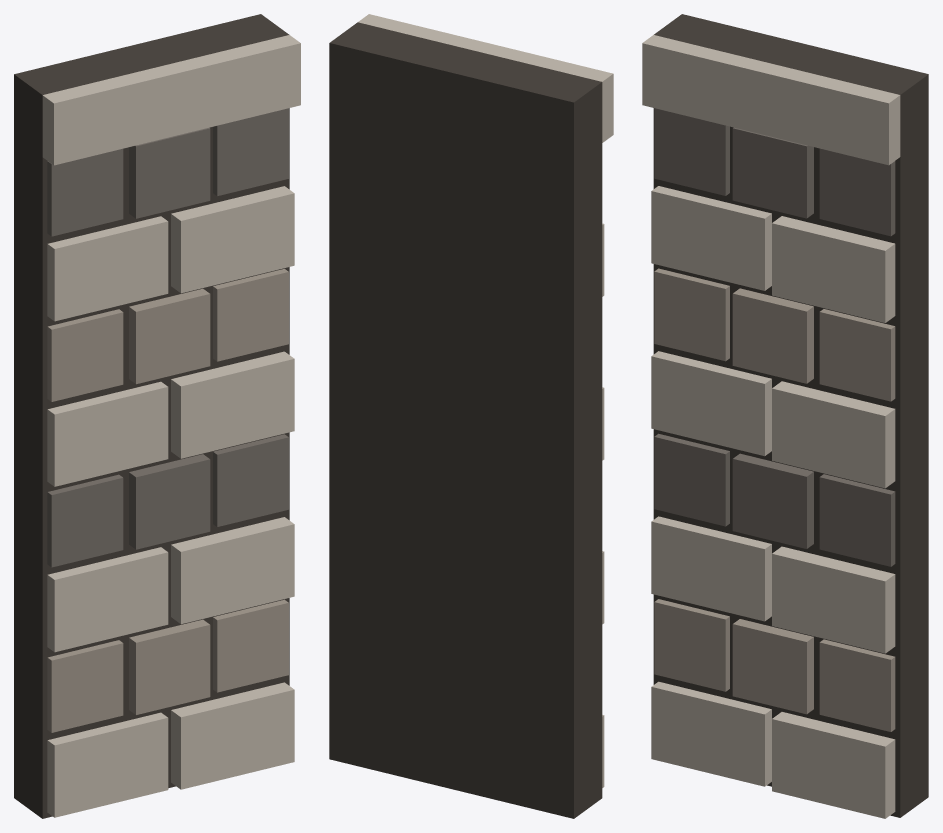
Rendered from parede_de_cantaria.glb.
3 views of the same model, side by side, from view 1: azimuth 30°, elevation 25°; view 2: azimuth 150°, elevation 25°; view 3: azimuth 330°, elevation 25° (orthographic).
Visible parts, largest first — view 1: Maciço, Cornija, Bloco_0_1, Bloco_6_1, Bloco_4_1, Bloco_2_1, Bloco_2_0, Bloco_6_0, Bloco_0_0, Bloco_4_0, Bloco_3_1, Bloco_1_1 (+10 smaller); view 2: Maciço, Cornija; view 3: Maciço, Cornija, Bloco_2_1, Bloco_4_1, Bloco_0_1, Bloco_6_1, Bloco_0_0, Bloco_2_0, Bloco_4_0, Bloco_6_0, Bloco_3_1, Bloco_5_1 (+10 smaller).
Boxes of the visible parts, left/top/right/bottom form: Maciço: left=14, top=14, right=289, bottom=818; Cornija: left=42, top=35, right=300, bottom=165; Bloco_0_1: left=171, top=682, right=294, bottom=789; Bloco_6_1: left=171, top=186, right=294, bottom=293; Bloco_4_1: left=171, top=351, right=294, bottom=458; Bloco_2_1: left=171, top=517, right=294, bottom=624; Bloco_2_0: left=47, top=547, right=168, bottom=652; Bloco_6_0: left=47, top=216, right=168, bottom=321; Bloco_0_0: left=47, top=712, right=168, bottom=817; Bloco_4_0: left=47, top=381, right=168, bottom=486; Bloco_3_1: left=129, top=454, right=210, bottom=549; Bloco_1_1: left=129, top=619, right=210, bottom=714; Maciço: left=329, top=22, right=602, bottom=818; Cornija: left=358, top=14, right=613, bottom=142; Maciço: left=653, top=14, right=928, bottom=817; Cornija: left=642, top=35, right=900, bottom=165; Bloco_2_1: left=772, top=546, right=895, bottom=653; Bloco_4_1: left=772, top=381, right=895, bottom=488; Bloco_0_1: left=772, top=712, right=895, bottom=818; Bloco_6_1: left=772, top=216, right=895, bottom=322; Bloco_0_0: left=651, top=681, right=771, bottom=786; Bloco_2_0: left=651, top=516, right=771, bottom=621; Bloco_4_0: left=651, top=351, right=771, bottom=456; Bloco_6_0: left=651, top=186, right=771, bottom=290; Bloco_3_1: left=732, top=453, right=813, bottom=548; Bloco_5_1: left=732, top=288, right=813, bottom=383.
Size of the model in its own units: 2 by 5.6 by 0.56.
